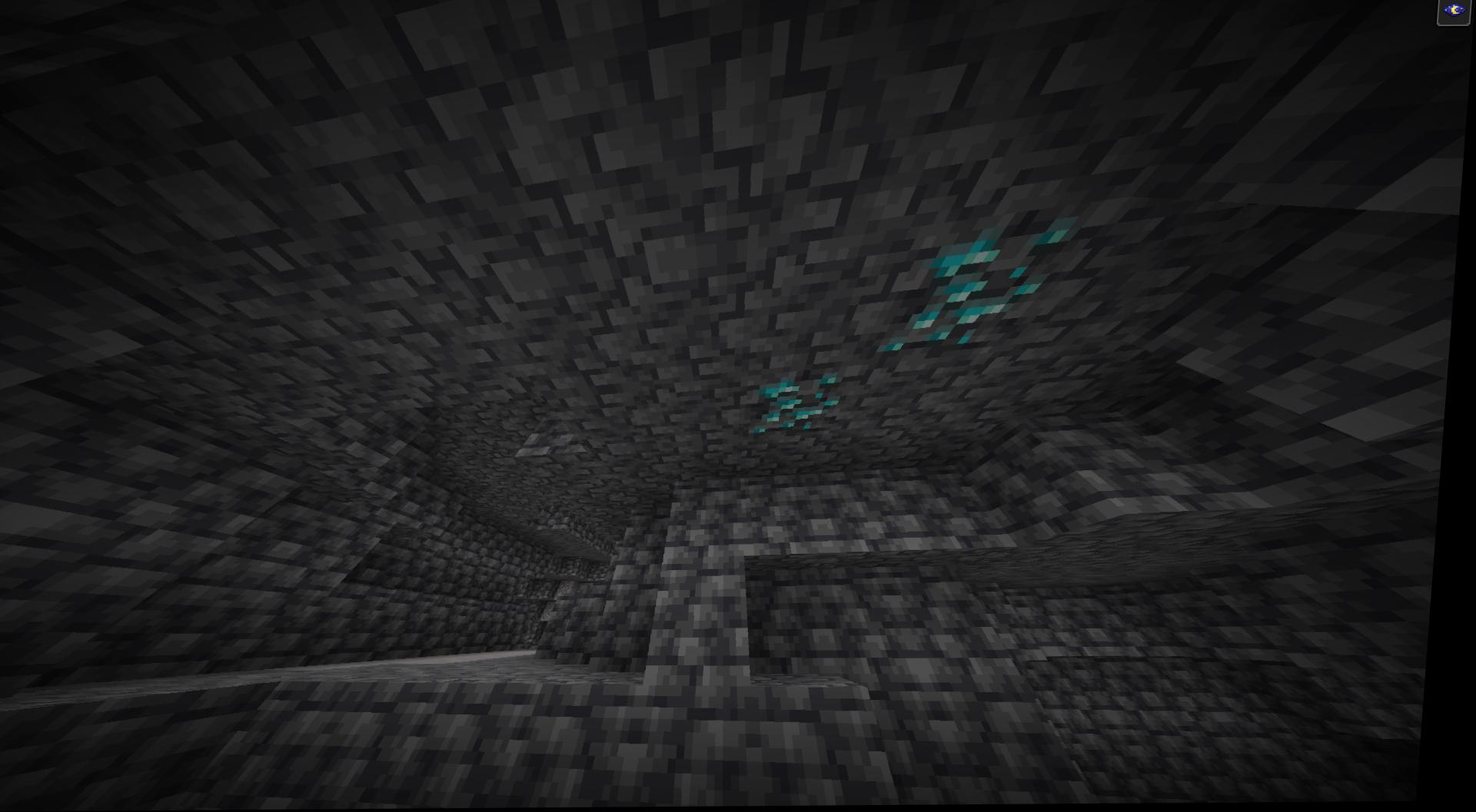diamond ore: (889, 222, 1065, 351), (755, 373, 844, 436)
